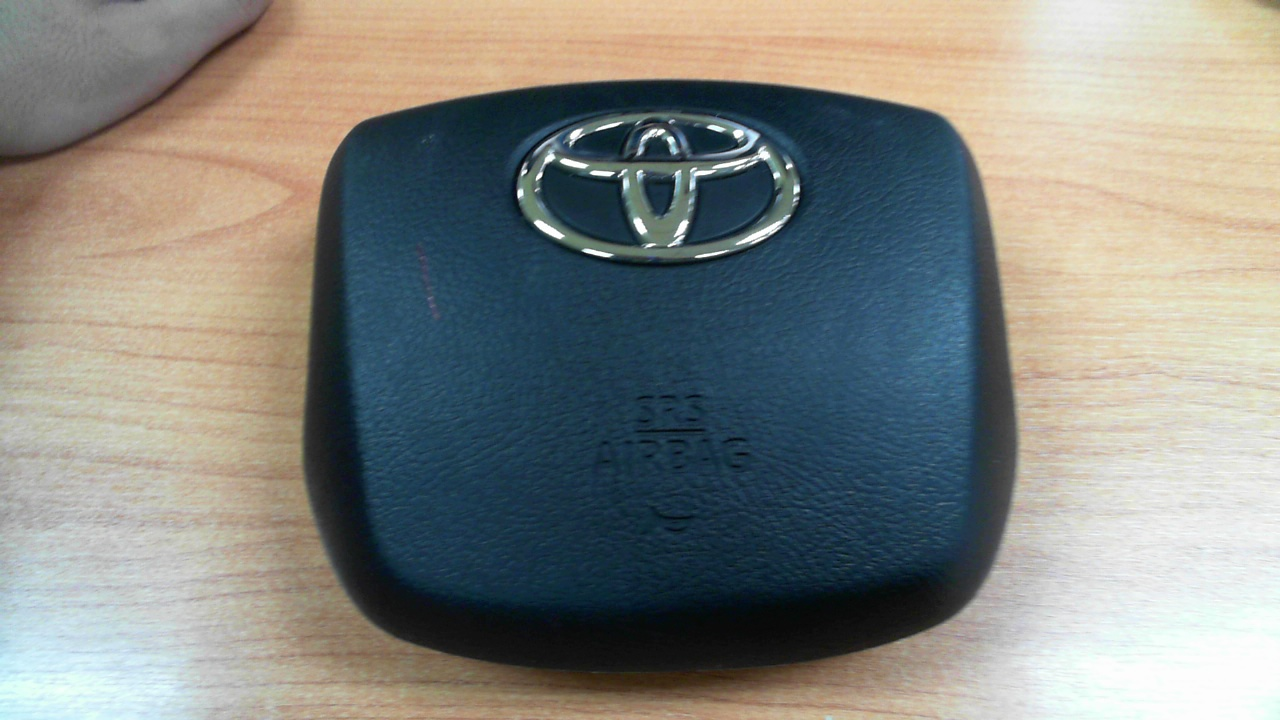Airbag: (300, 77, 1018, 673)
Toyota: (516, 112, 800, 259)
